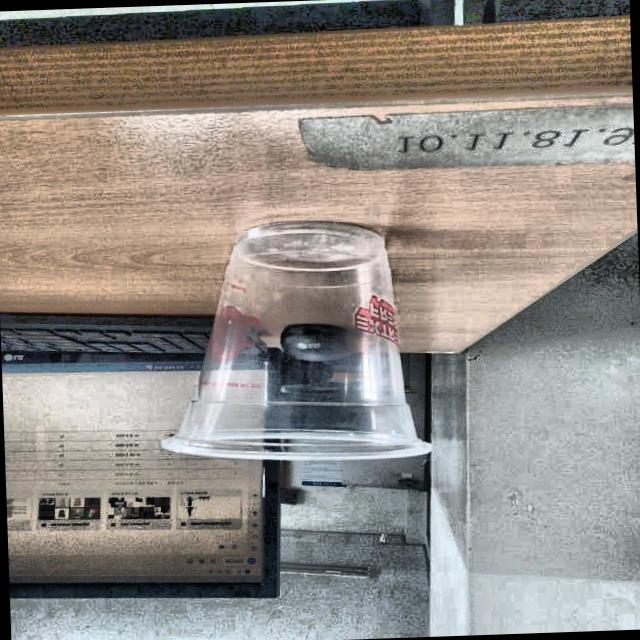plastic cup: (152, 218, 438, 468)
